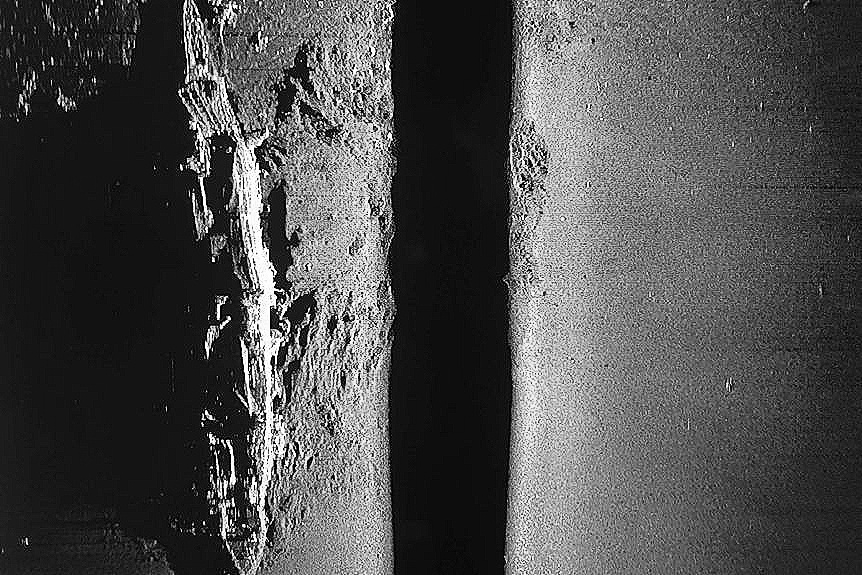ship: (168, 1, 288, 575)
